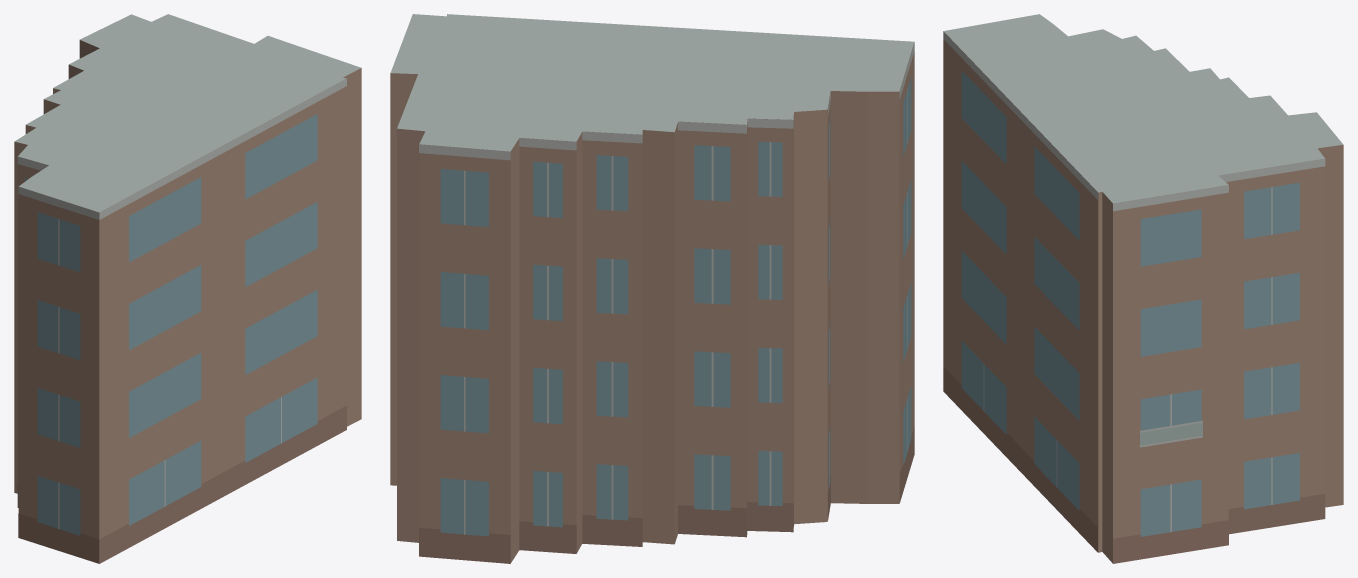
File: survey-upis-32683742.glb
3 renders of one model, left to right at view 1: azimuth 30°, elevation 25°; view 2: azimuth 150°, elevation 25°; view 3: azimuth 270°, elevation 25°, orthographic. The views are drawn at different scales.
Visible parts, largest first — view 1: survey-upis-32683742.tmp; view 2: survey-upis-32683742.tmp; view 3: survey-upis-32683742.tmp.
Boxes of the visible parts, box(x1,y1,x2,y2) form: survey-upis-32683742.tmp: box(14, 14, 361, 563); survey-upis-32683742.tmp: box(390, 14, 914, 563); survey-upis-32683742.tmp: box(943, 14, 1343, 563).
Size of the model in its own units: 12.88 by 11.4 by 11.49.
